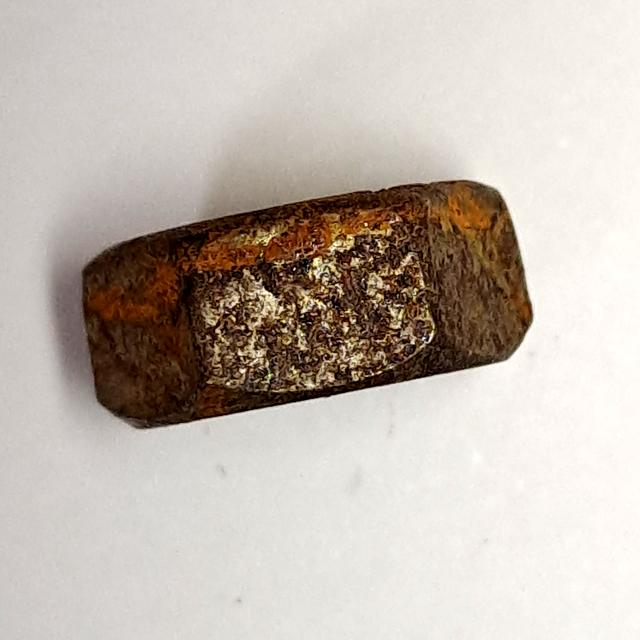Side_Rust: (70, 169, 547, 454)
